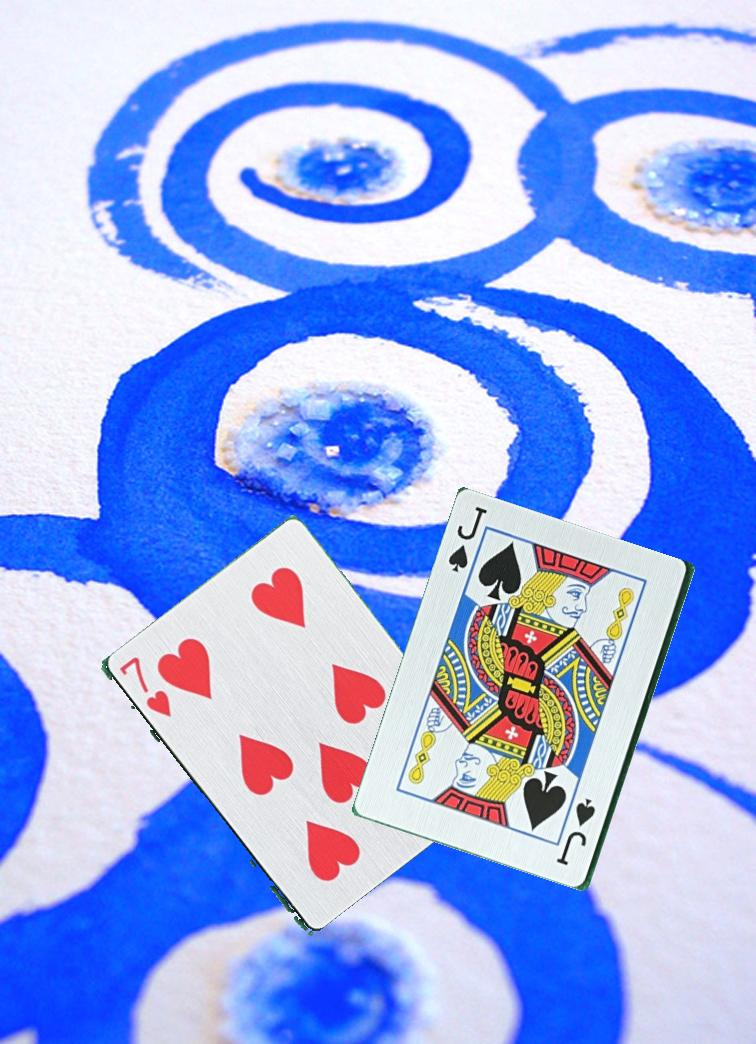7h: (113, 653, 174, 720)
js: (444, 503, 490, 576), (557, 794, 599, 870)
